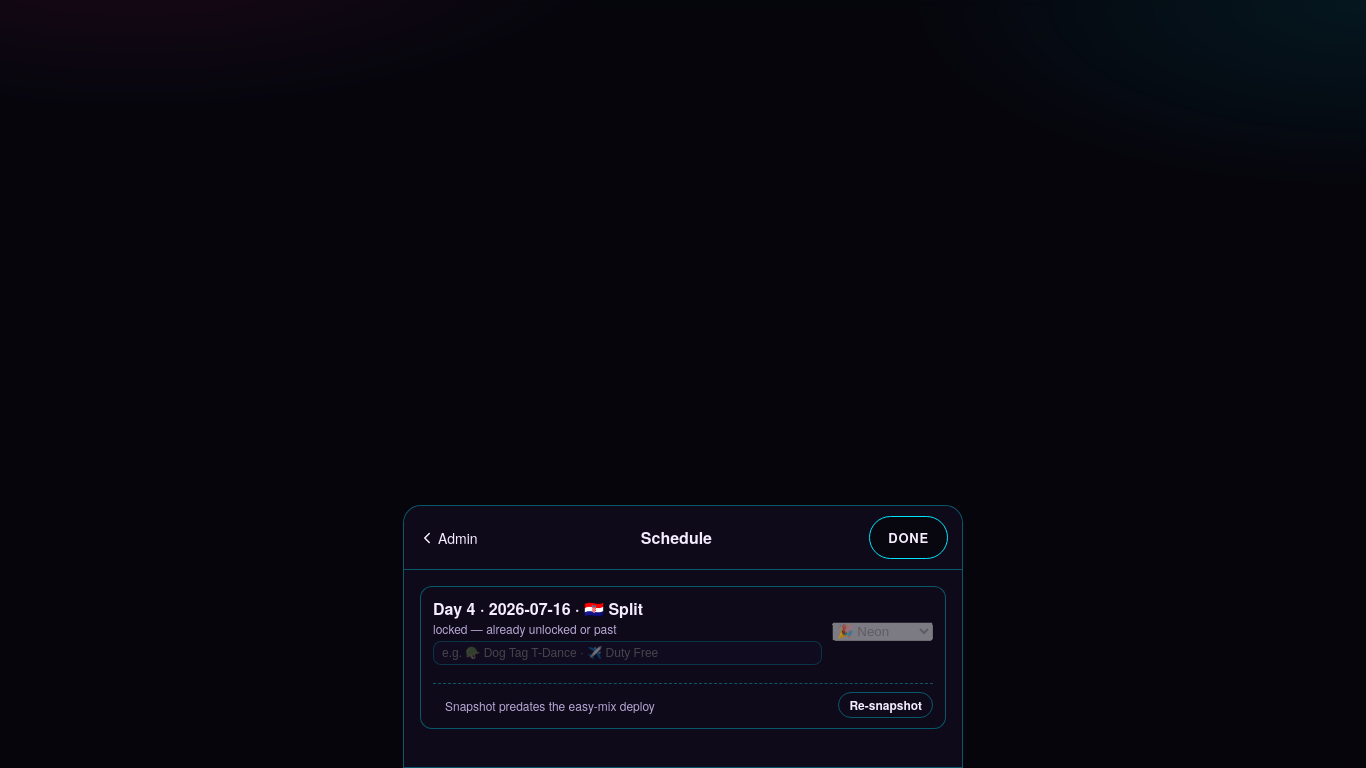
it: Admin Schedule repair line (#413, specs/admin-console-ia.md § "Schedule") › the result message stays inside the row after a Re-snapshot tap
The width and height of the screenshot is (1366, 768).
Click the button "Re-snapshot": (886, 705) [838, 692, 933, 718]
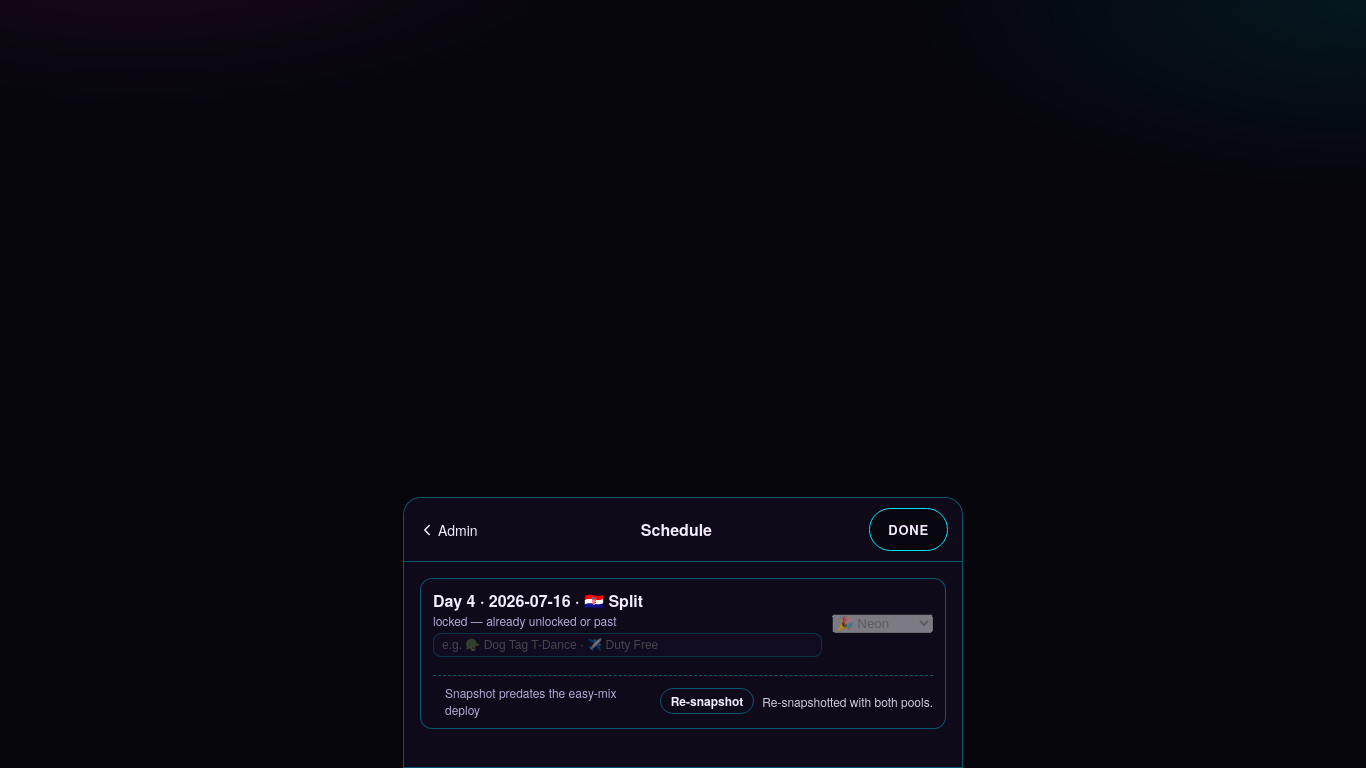
Check: the text "Re-snapshotted with both pools." is shown, box [762, 692, 933, 710]
